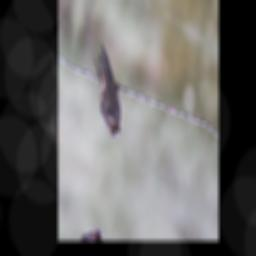Swallow: (83, 37, 132, 144)
